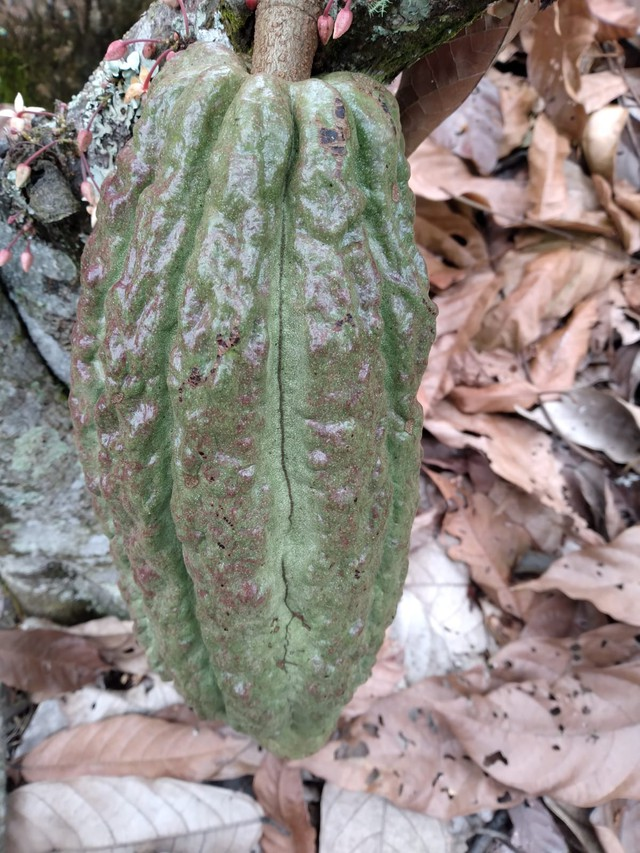Health: (61, 39, 442, 762)
